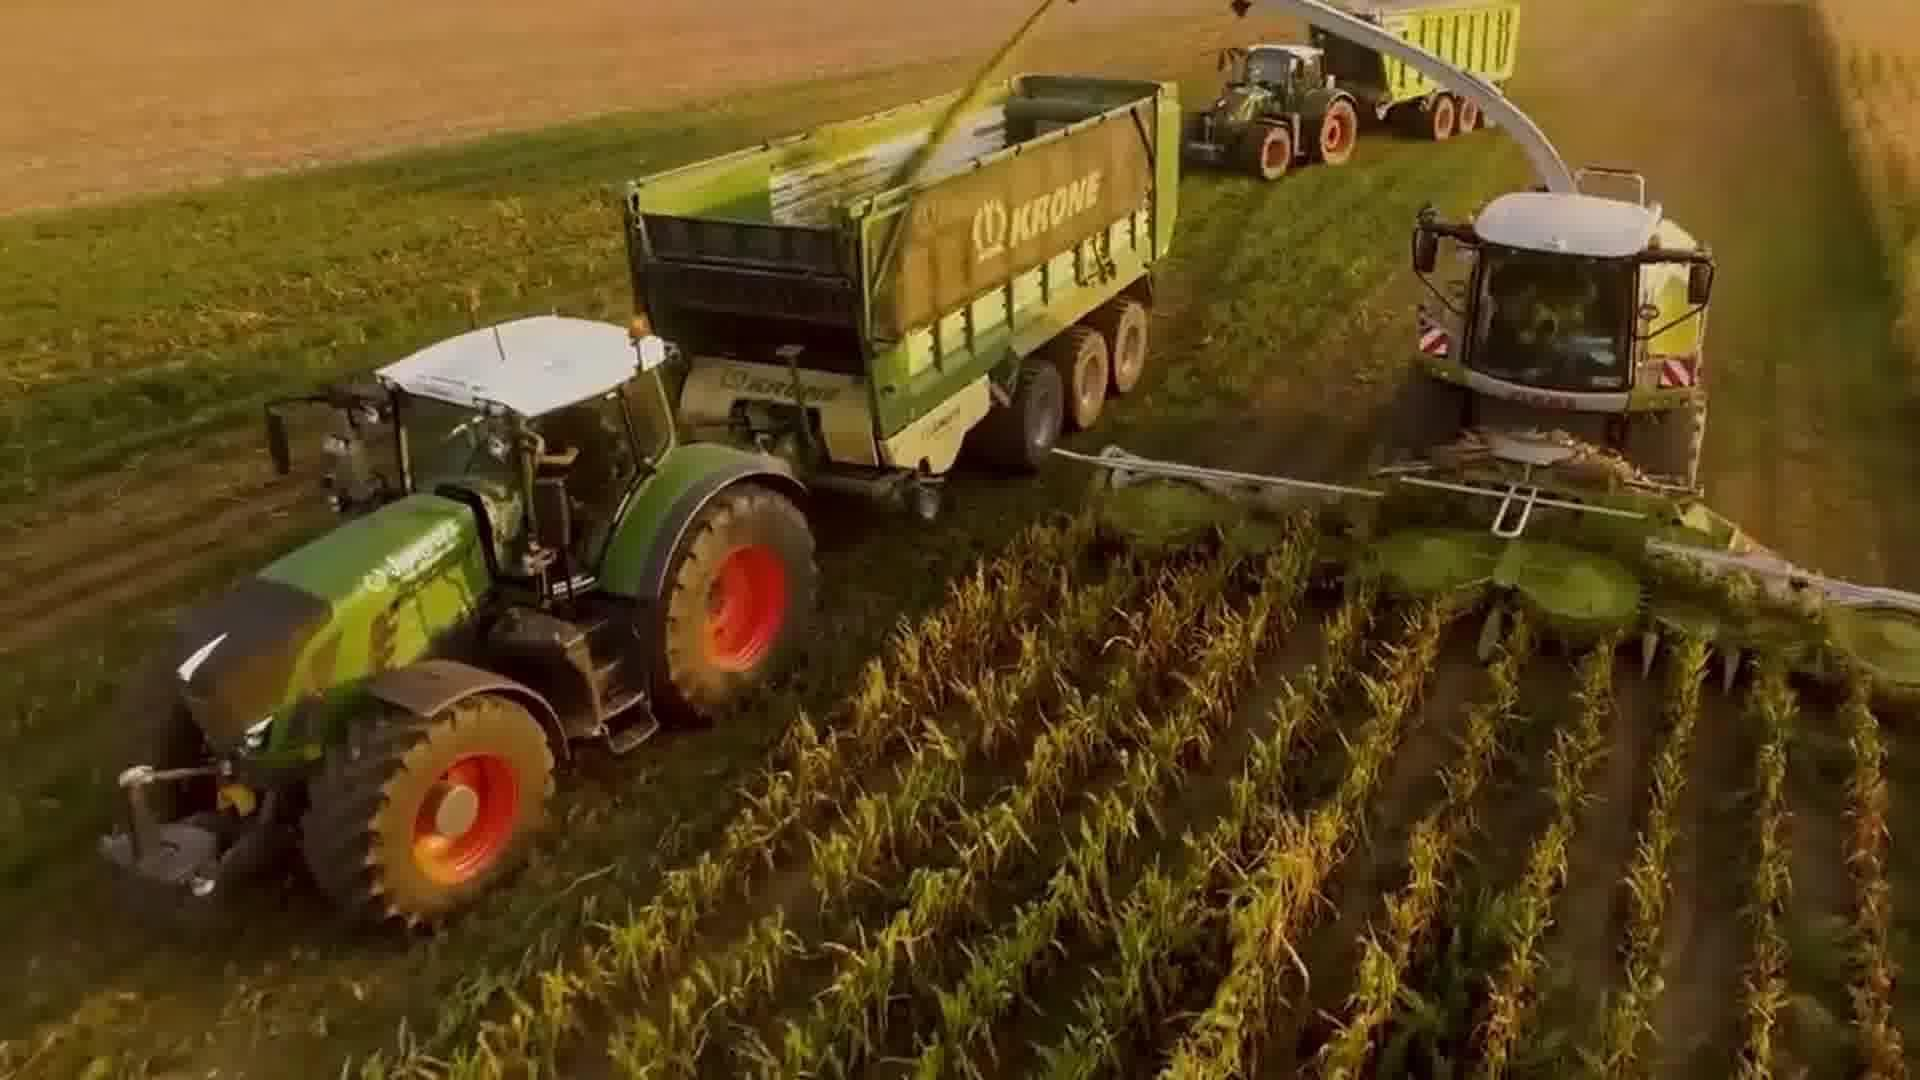combine harvester: (1048, 0, 1920, 712)
tractor: (84, 305, 832, 945), (1183, 40, 1364, 185)
trailer: (612, 66, 1195, 505), (1299, 0, 1532, 149)
